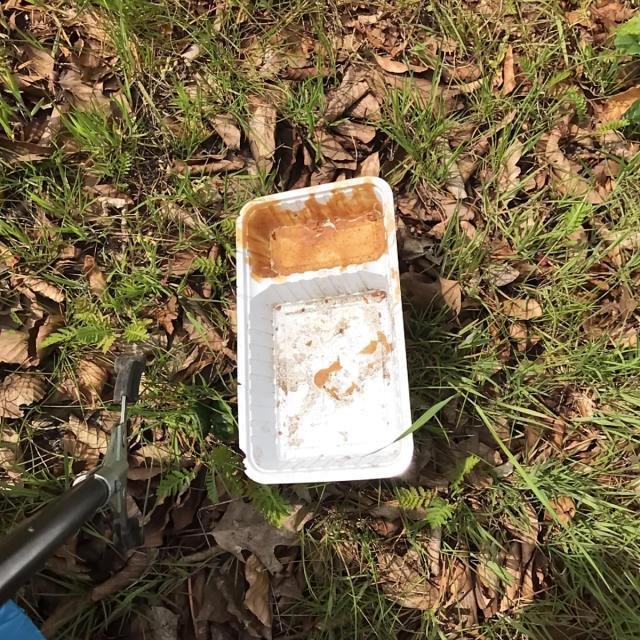Plastic: (232, 172, 418, 486)
